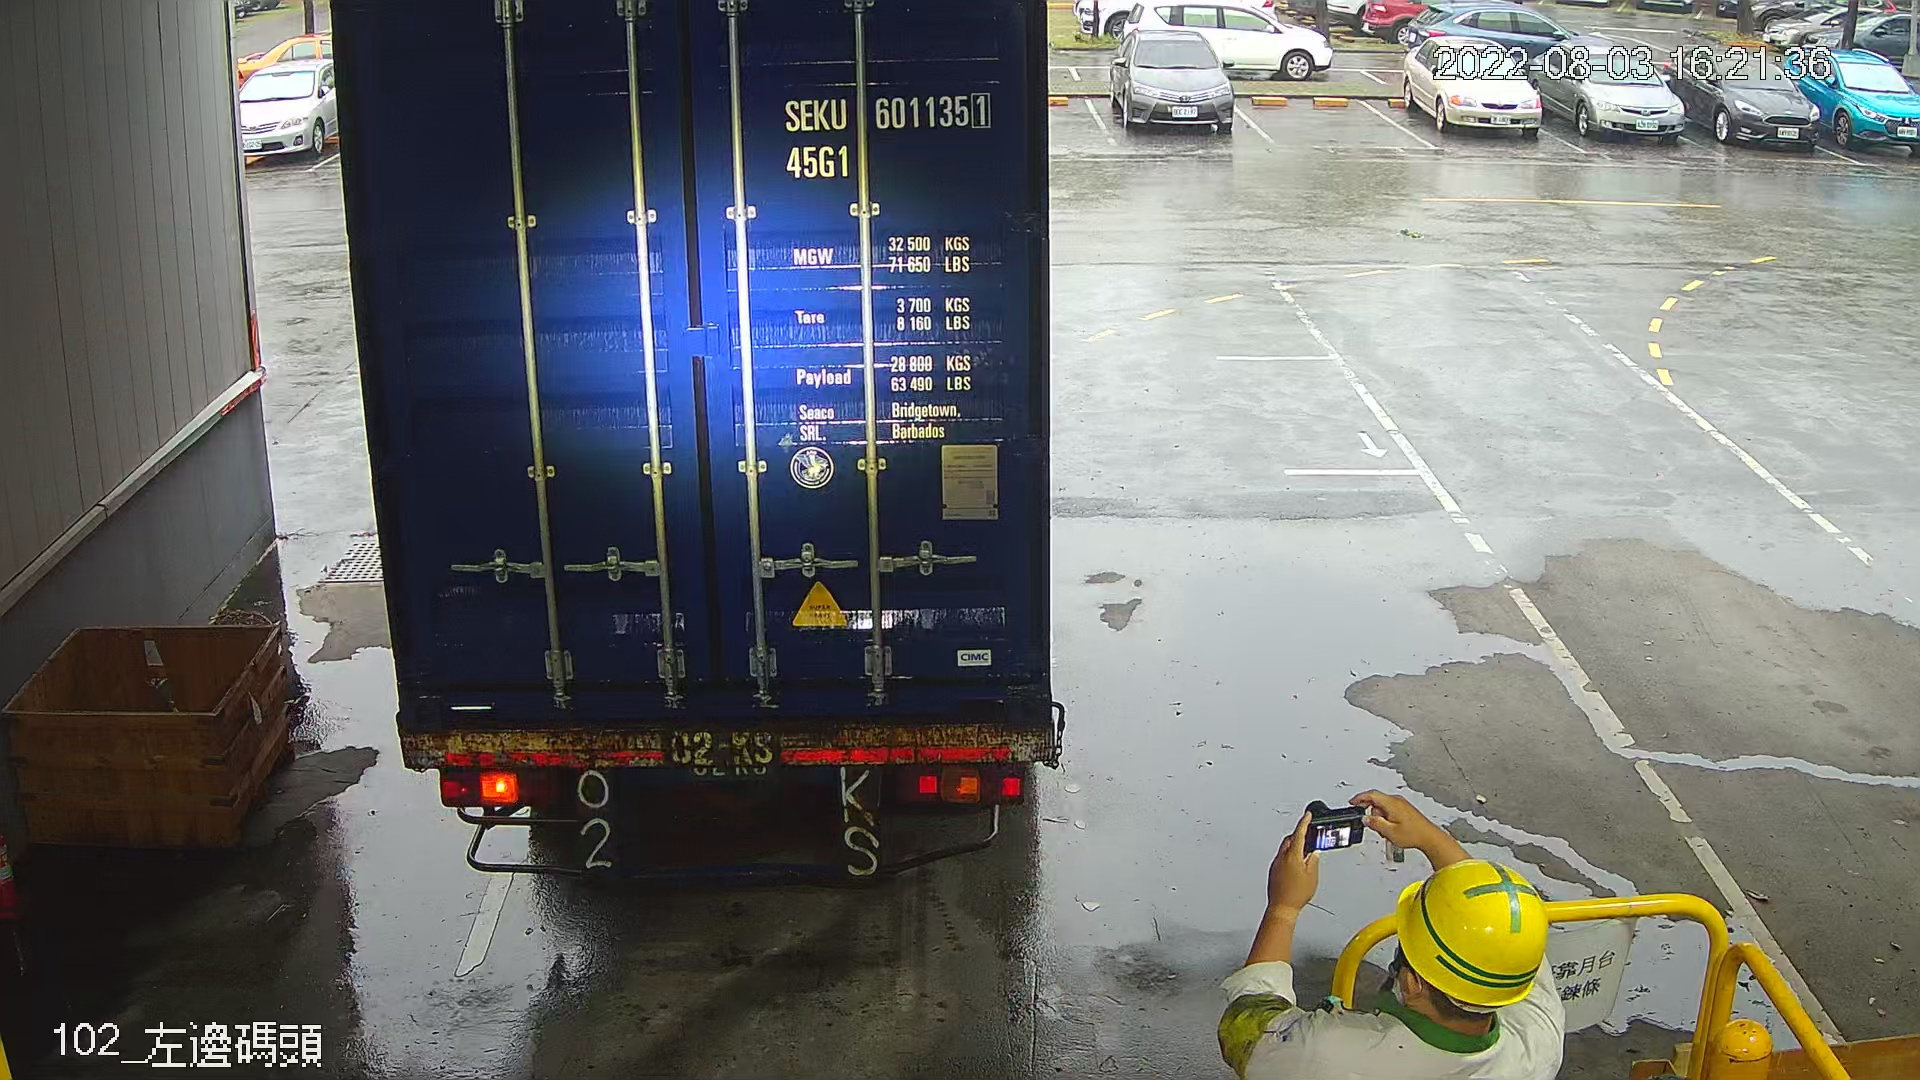container: (770, 79, 1004, 191)
